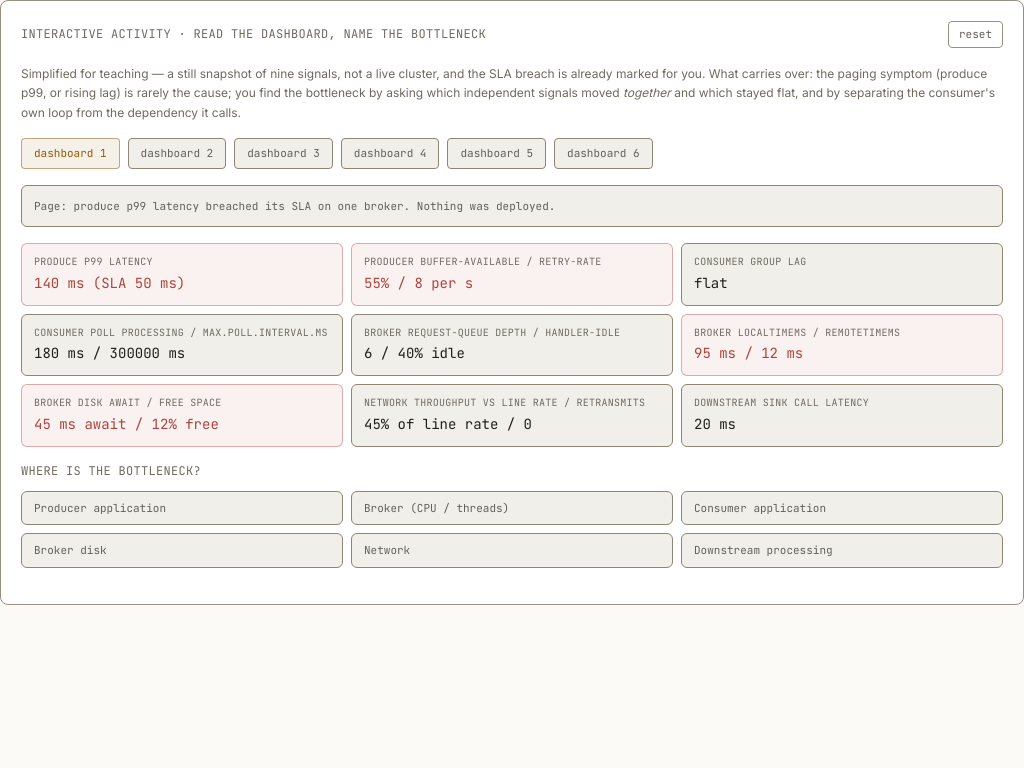
Test: BottleneckDiagnosis › dashboard 1 is the disk: award and LocalTimeMs move together
This screenshot has width=1024, height=768.
Click the button "Broker disk" at (70, 550), box [21,533,343,568]
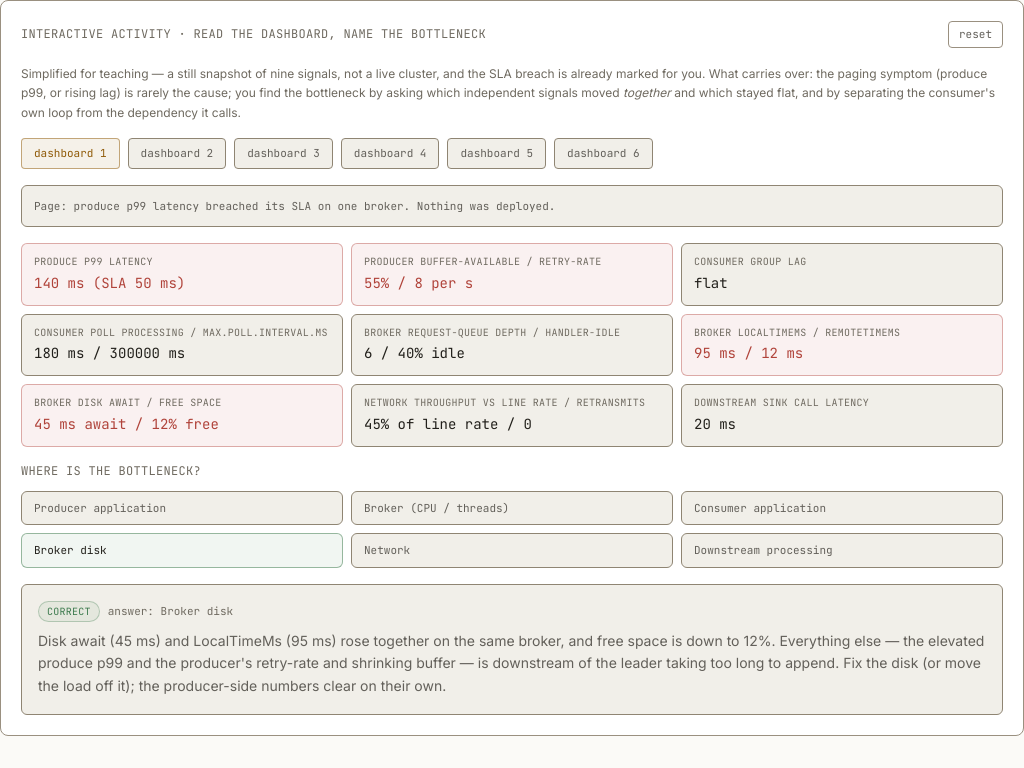
Result: the text "correct" is shown at [38,600,100,622]
Result: the element with test id "bd-feedback" shows "Disk await (45 ms) and LocalTimeMs (95 ms) rose together" at [38,632,984,694]
